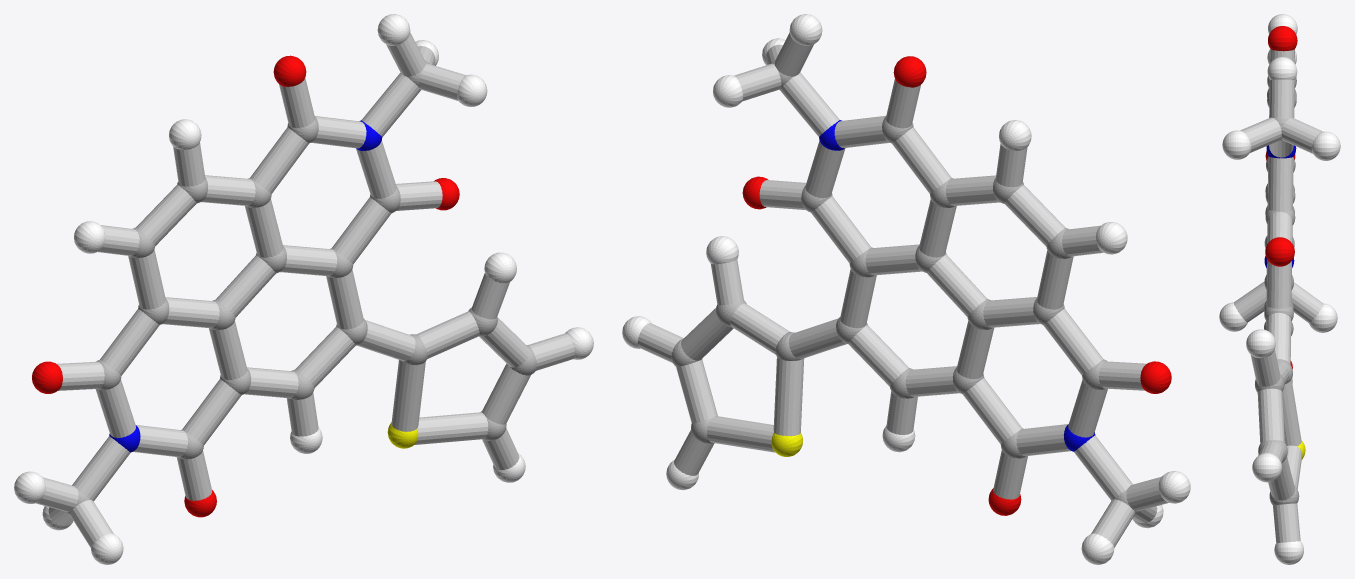
Rendered from color.glb.
3 renders of one model, left to right at view 1: azimuth 30°, elevation 25°; view 2: azimuth 150°, elevation 25°; view 3: azimuth 270°, elevation 25°, orthographic. The views are drawn at different scales.
Visible parts, largest first — view 1: grp14119, grp7241, grp1, grp12309, grp11585; view 2: grp14119, grp7241, grp1, grp12309, grp11585; view 3: grp14119, grp7241, grp1, grp12309, grp11585.
Part boxes in pixels (x1,y1,x2,y2): grp14119: [36, 32, 575, 547]; grp7241: [14, 14, 593, 564]; grp1: [65, 60, 536, 515]; grp12309: [32, 55, 459, 517]; grp11585: [109, 120, 382, 452]; grp14119: [637, 32, 1168, 547]; grp7241: [622, 14, 1190, 564]; grp1: [671, 60, 1139, 514]; grp12309: [742, 56, 1171, 515]; grp11585: [819, 120, 1095, 451]; grp14119: [1233, 49, 1323, 542]; grp7241: [1219, 14, 1340, 564]; grp1: [1255, 76, 1299, 505]; grp12309: [1265, 26, 1297, 368]; grp11585: [1264, 145, 1296, 268].
Bounding box in the file's own units: 12.06 × 10.08 × 2.45.
